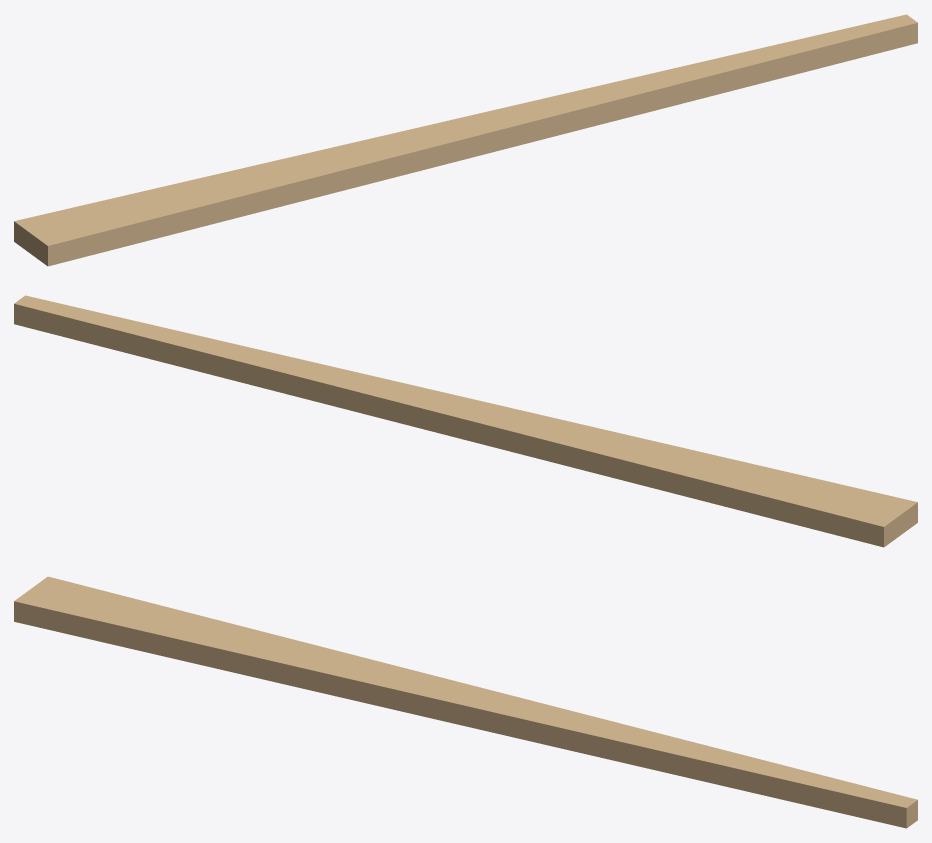
The model's file is prop-dovetail-waste-stick-dm1.fbx.
The picture shows the model from 3 angles, top to bottom: view 1: azimuth 30°, elevation 25°; view 2: azimuth 150°, elevation 25°; view 3: azimuth 330°, elevation 25°; orthographic projection.
Visible parts, largest first — view 1: prop-dovetail-waste-stick-dm1; view 2: prop-dovetail-waste-stick-dm1; view 3: prop-dovetail-waste-stick-dm1.
Boxes of the visible parts, left/top/right/bottom form: prop-dovetail-waste-stick-dm1: left=14, top=14, right=917, bottom=266; prop-dovetail-waste-stick-dm1: left=14, top=295, right=917, bottom=547; prop-dovetail-waste-stick-dm1: left=14, top=576, right=917, bottom=828.
Size of the model in its own units: 18 by 0.4 by 1.2.
